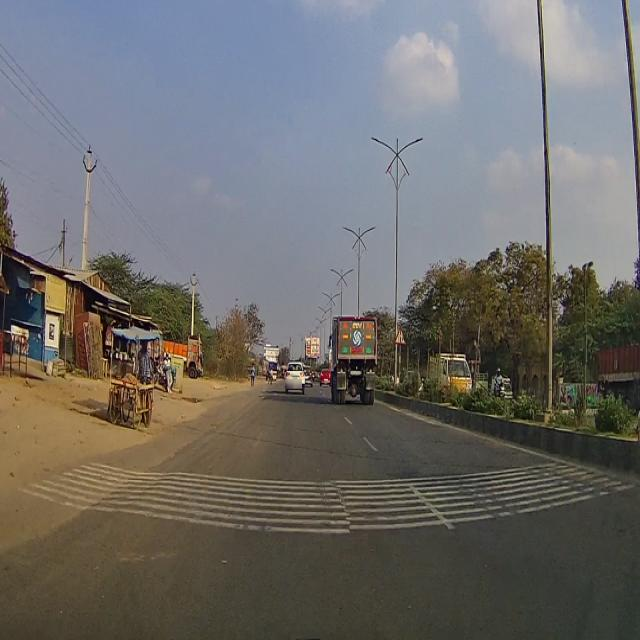gap-in-median: (396, 325, 406, 350)
